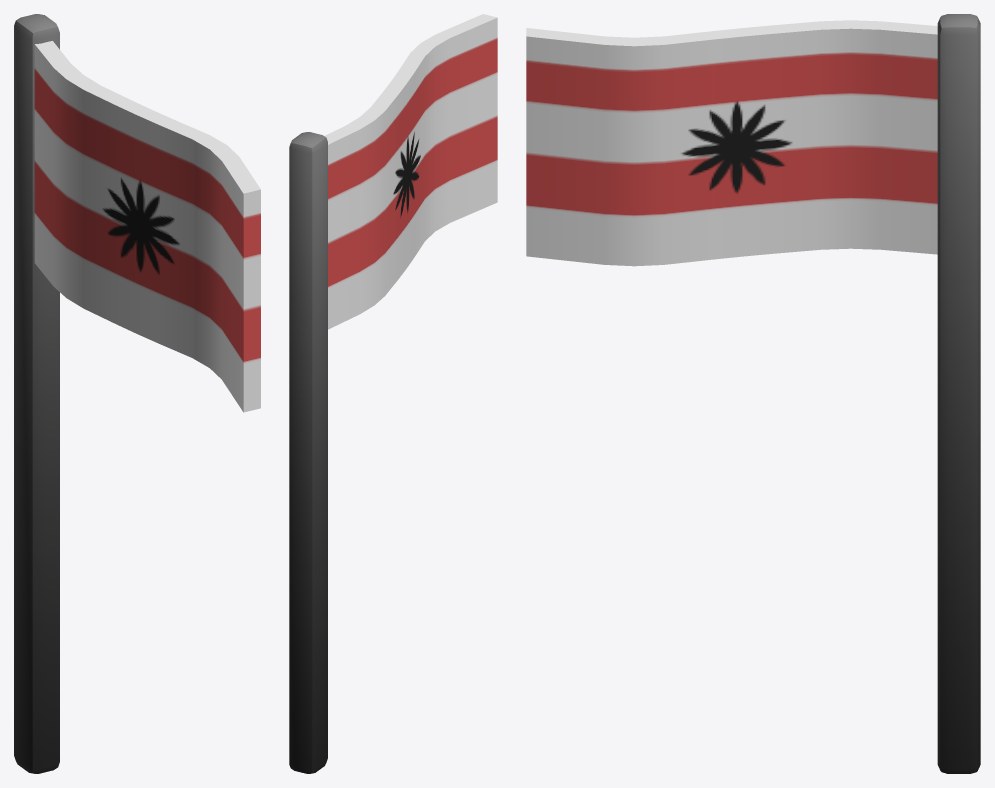
File: Flagpole02.fbx
3 views of the same model, side by side, from view 1: azimuth 30°, elevation 25°; view 2: azimuth 150°, elevation 25°; view 3: azimuth 270°, elevation 25° (orthographic). The views are drawn at different scales.
Visible parts, largest first — view 1: Flagpole02; view 2: Flagpole02; view 3: Flagpole02.
Part boxes in pixels (x1,y1,x2,y2): Flagpole02: [14, 14, 260, 773]; Flagpole02: [289, 14, 497, 773]; Flagpole02: [526, 14, 980, 773].
Bounding box in the file's own units: 0.5311 × 3.91 × 7.14.
